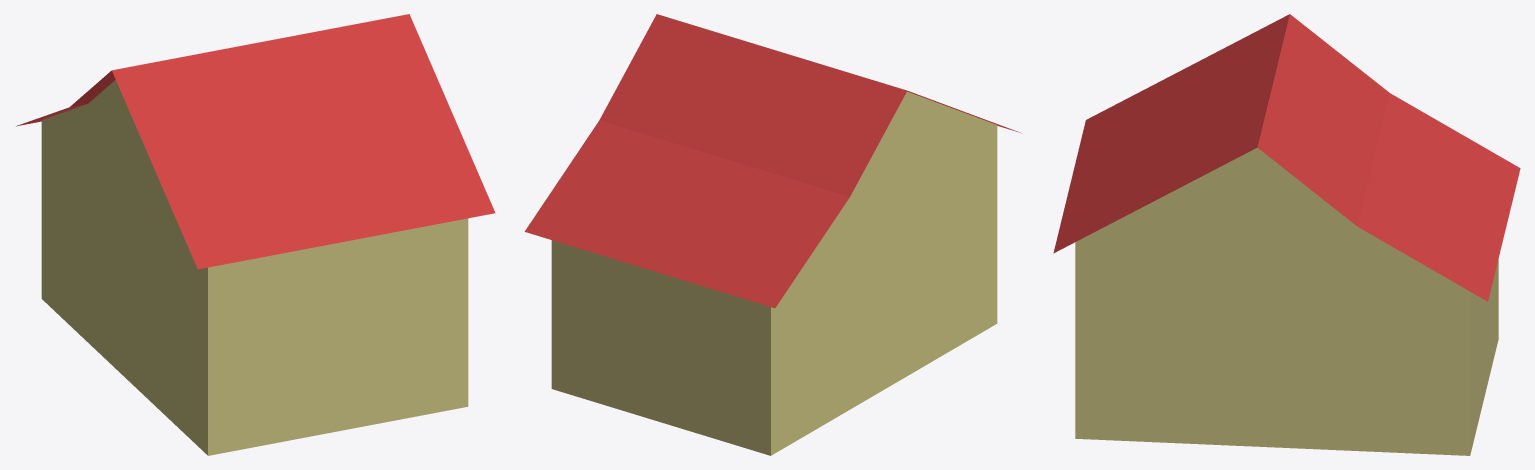
The picture shows the model from 3 angles, left to right: view 1: azimuth 30°, elevation 25°; view 2: azimuth 150°, elevation 25°; view 3: azimuth 270°, elevation 25°; orthographic projection. The views are drawn at different scales.
Bounding box in the file's own units: 13.54 × 17.53 × 12.74.
